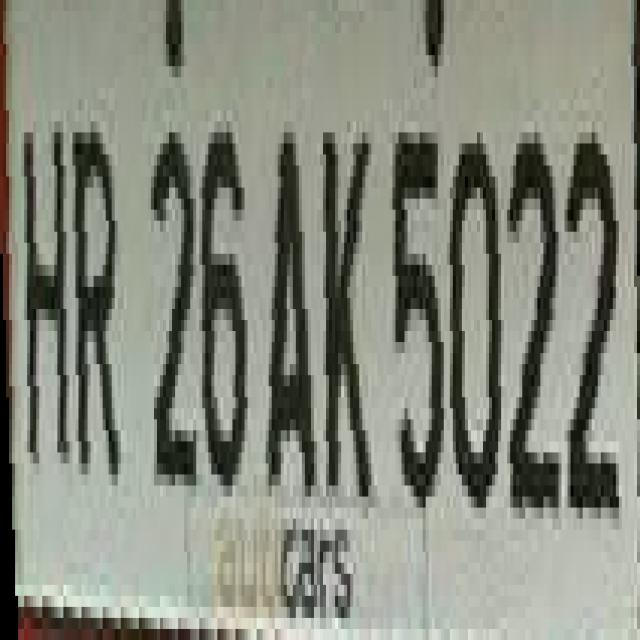license_plate: (27, 0, 637, 607)
